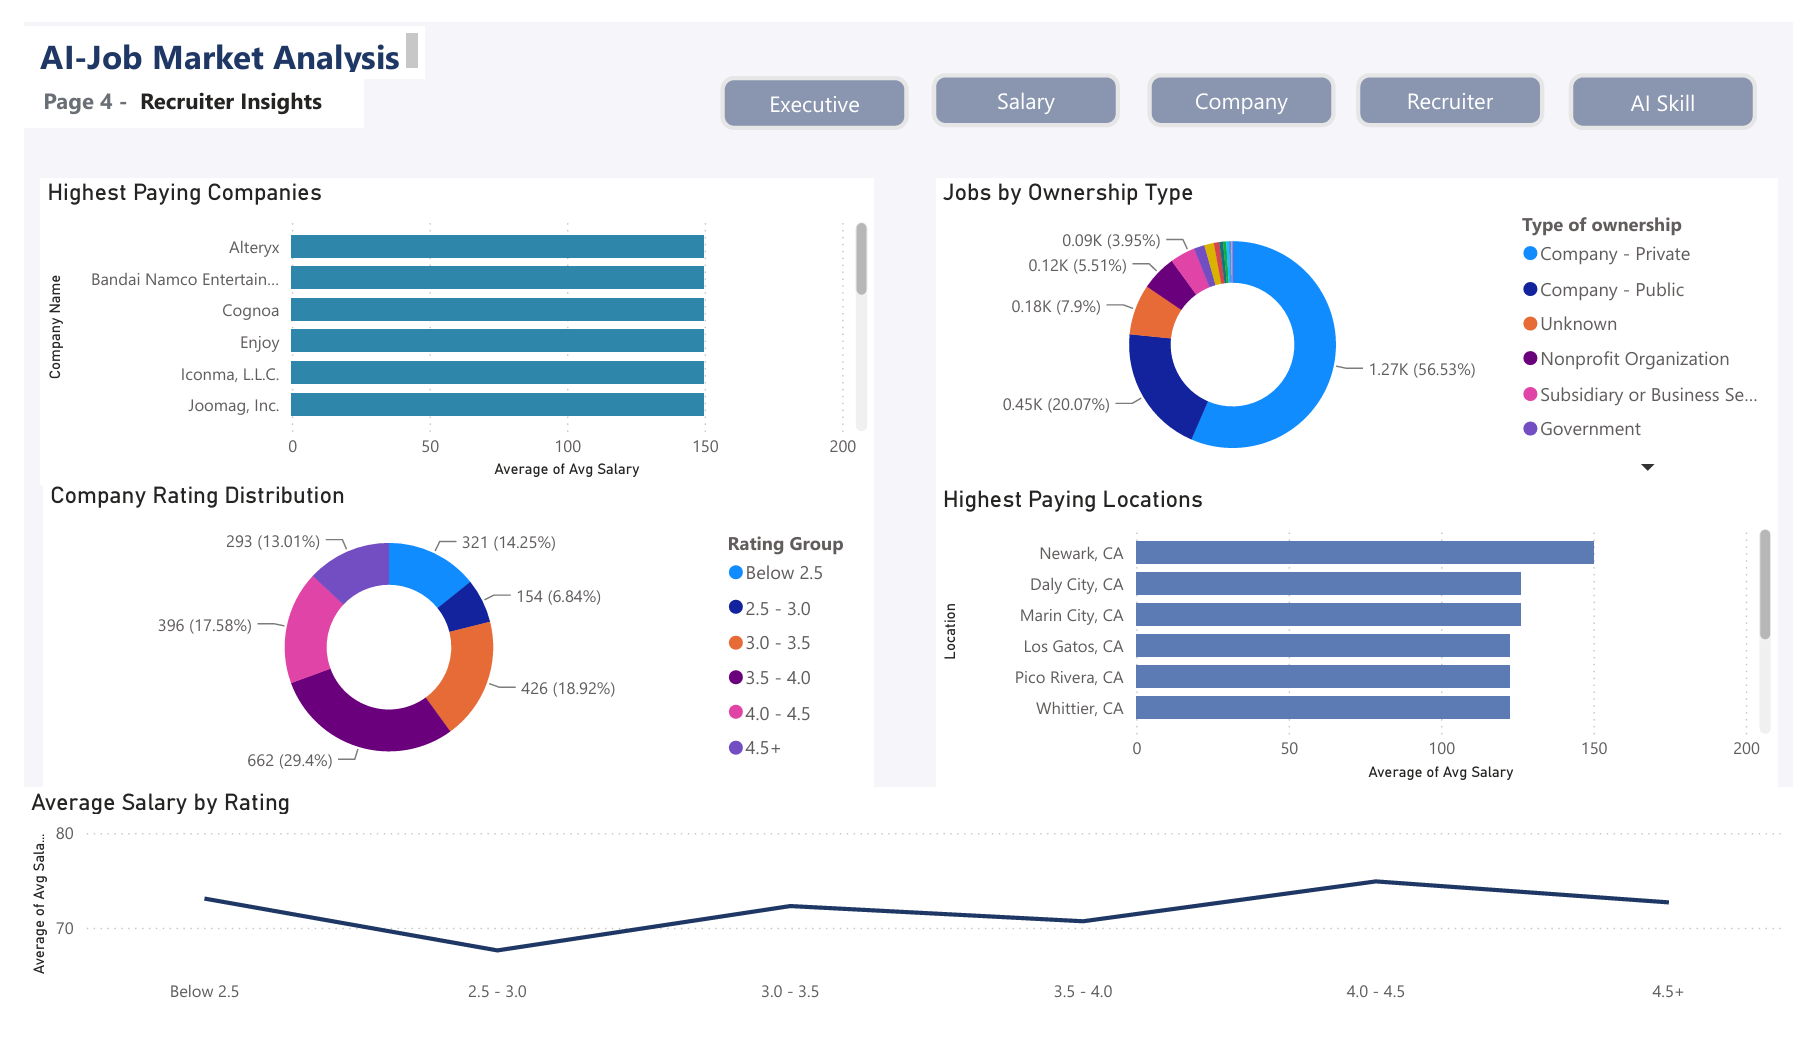

This screenshot's page, from the dashboard's own definition file:
{"tool":"powerbi","page":{"name":"Recruiter Insights","canvas":[1280,720],"ordinal":3},"visuals":[{"type":"textbox","box":[0,2.7,289.5,38.4],"z":0},{"type":"textbox","box":[0,41.4,245.7,35.7],"z":1000},{"type":"clusteredBarChart","title":"Highest Paying Locations","fields":{"Category":["jobs_sql.Location"],"Y":["Avg(jobs_sql.Avg Salary)"]},"box":[660,334.8,609.3,219.6],"z":6000},{"type":"donutChart","title":"Company Rating Distribution","fields":{"Y":["CountNonNull(jobs_sql.Job Title)"],"Category":["jobs_sql.Rating Group"]},"box":[13.7,332.1,601,222.3],"z":7000},{"type":"donutChart","title":"Jobs by Ownership Type","fields":{"Category":["jobs_sql.Type of ownership"],"Y":["CountNonNull(jobs_sql.Job Title)"]},"box":[660,112.5,609.3,222.3],"z":8000},{"type":"clusteredBarChart","title":"Highest Paying Companies","fields":{"Category":["jobs_sql.Company Name"],"Y":["Avg(jobs_sql.Avg Salary)"]},"box":[12.3,112.5,602.4,222.3],"z":9000},{"type":"lineChart","title":"Average Salary by Rating","fields":{"Category":["jobs_sql.Rating Group"],"Y":["Avg(jobs_sql.Avg Salary)"]},"box":[0,554,1280.3,166],"z":10000},{"type":"actionButton","box":[504.4,38.8,135.8,38.8],"z":10001},{"type":"actionButton","box":[656.8,37.4,135.8,38.8],"z":10002},{"type":"actionButton","box":[964.4,37.4,135.8,38.8],"z":10004},{"type":"actionButton","box":[1118.2,37.4,135.8,40.2],"z":10005},{"type":"actionButton","box":[813.3,37.4,135.8,38.8],"z":10006}]}

Visuals, with their boxes in screenshot pixels (x1, y1, x2, y2), scaled from the page's 1280x720 canvas onto the 1817x1045 screenshot:
textbox: <box>0,4,411,60</box>
textbox: <box>0,60,349,112</box>
"Highest Paying Locations" clusteredBarChart: <box>937,486,1802,805</box>
"Company Rating Distribution" donutChart: <box>19,482,873,805</box>
"Jobs by Ownership Type" donutChart: <box>937,163,1802,486</box>
"Highest Paying Companies" clusteredBarChart: <box>17,163,873,486</box>
"Average Salary by Rating" lineChart: <box>0,804,1816,1044</box>
actionButton: <box>716,56,909,113</box>
actionButton: <box>932,54,1125,111</box>
actionButton: <box>1369,54,1562,111</box>
actionButton: <box>1587,54,1780,113</box>
actionButton: <box>1155,54,1347,111</box>
